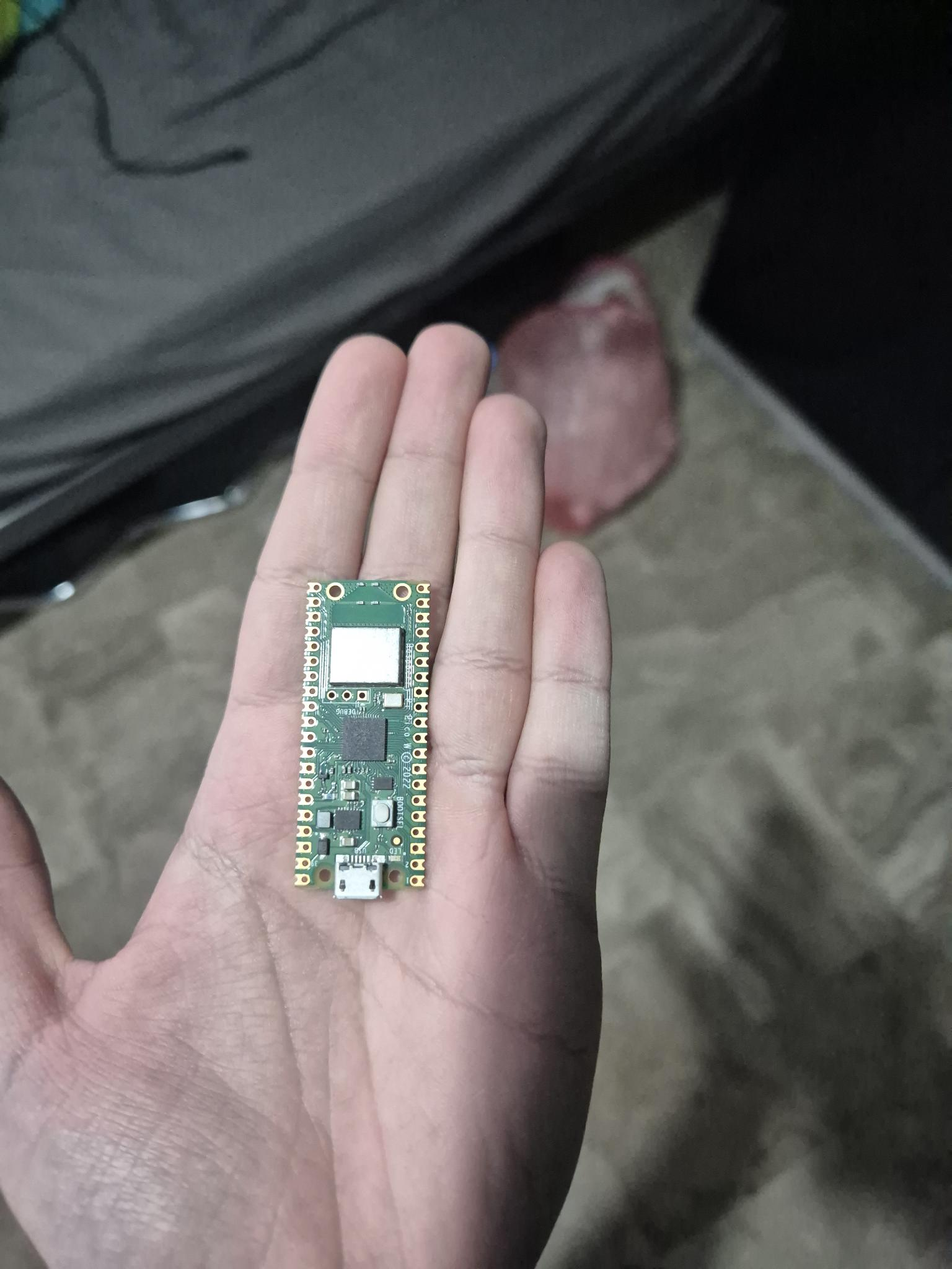raspberry-pi-pico-w: (295, 579, 430, 900)
